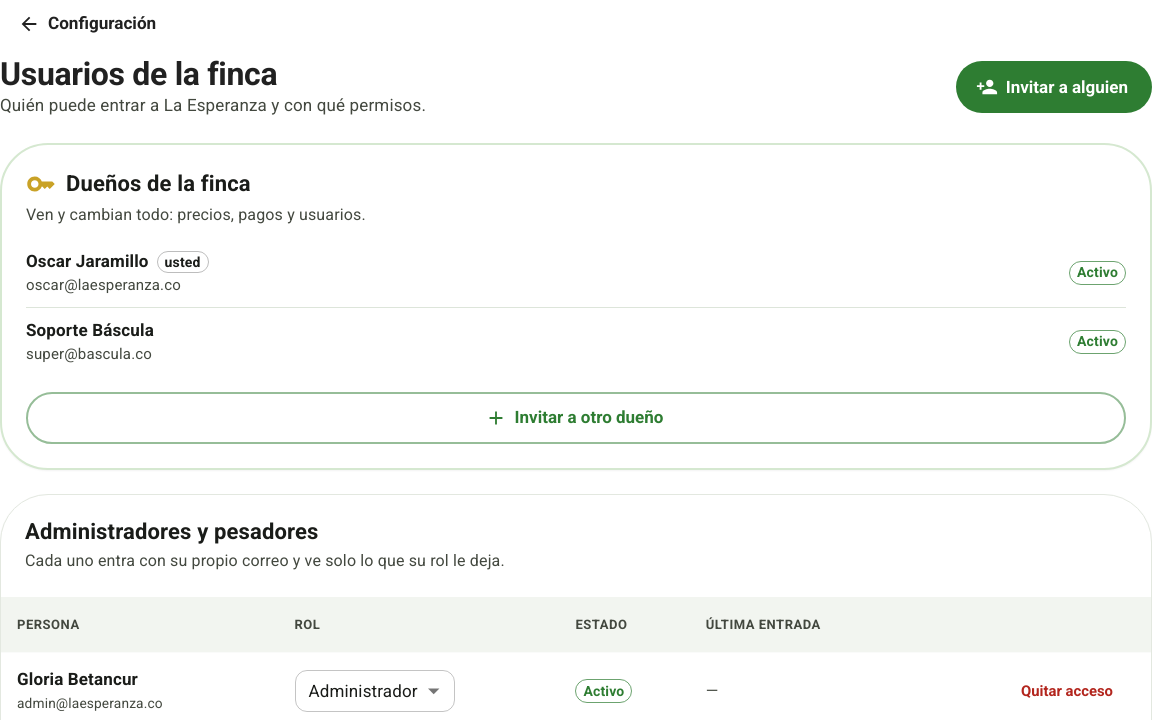
it: what the server sends back › speaks of 'ella' when the new person came back without a name
This screenshot has width=1152, height=720.
expect the text "Gloria Betancur" is shown: met, box [17,669,138,689]
Click the button "Invitar a alguien": click(1054, 87) [956,61,1151,113]
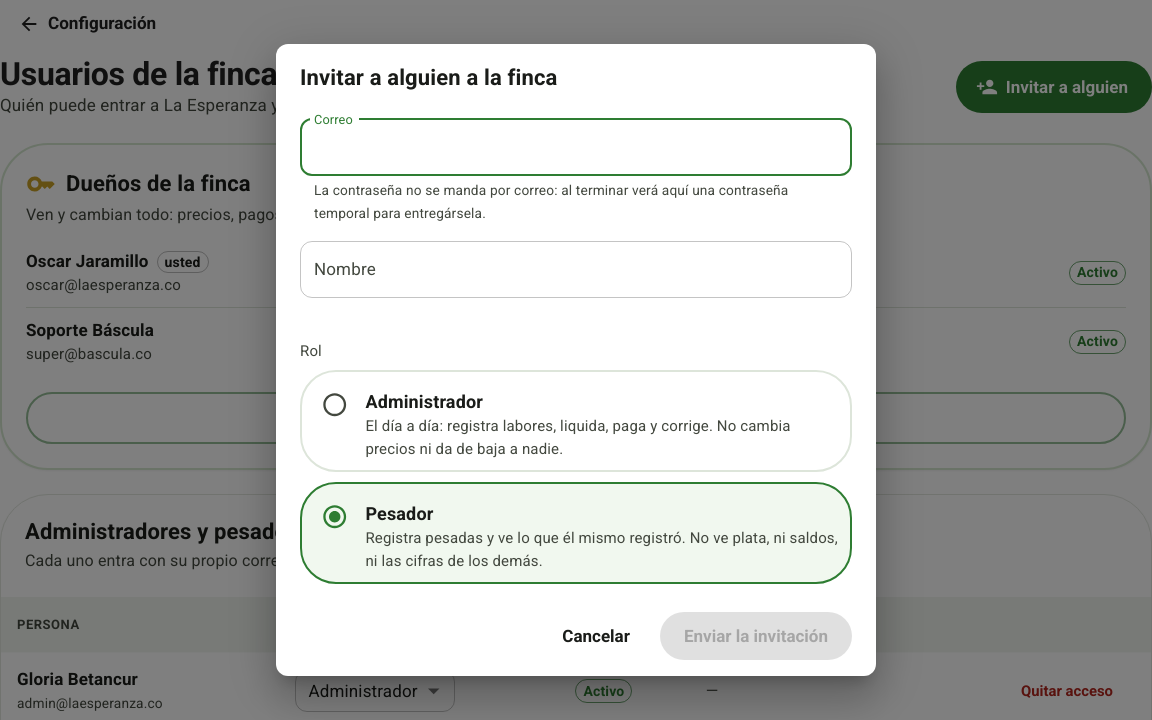
In the field labelled "Correo": (576, 148) [300,119,852,176], type "nueva@laesperanza.co"
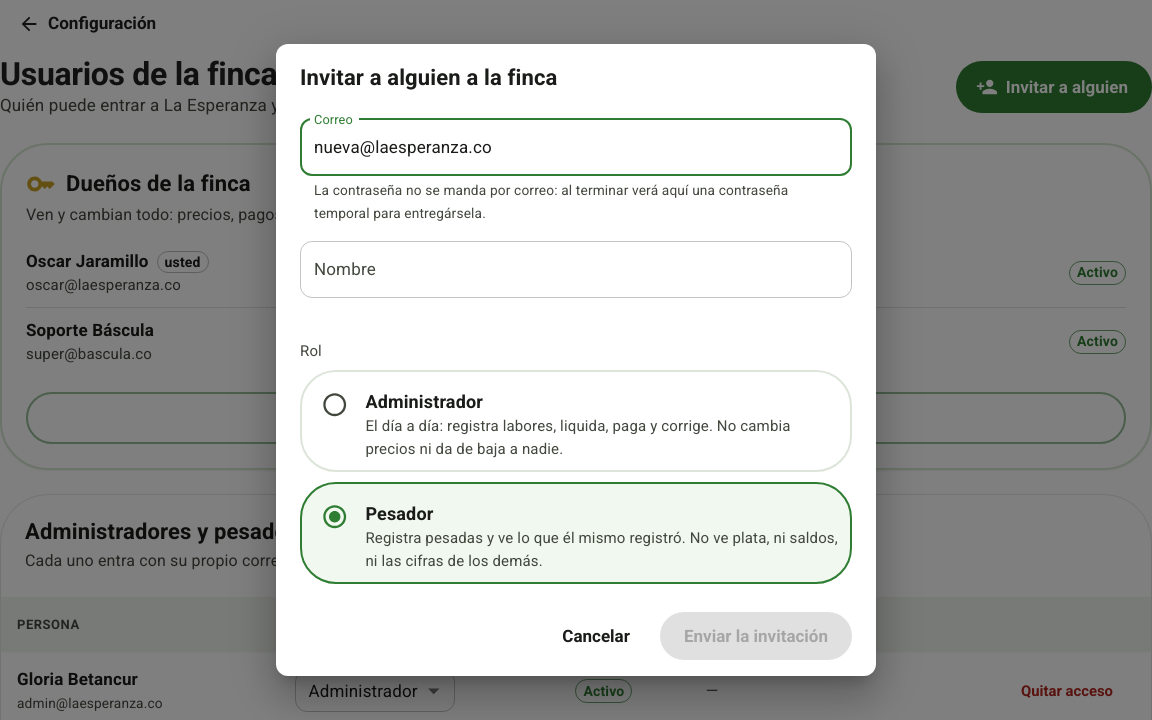
In the field labelled "Nombre": (576, 269) [300,241,852,298], type "Nueva"
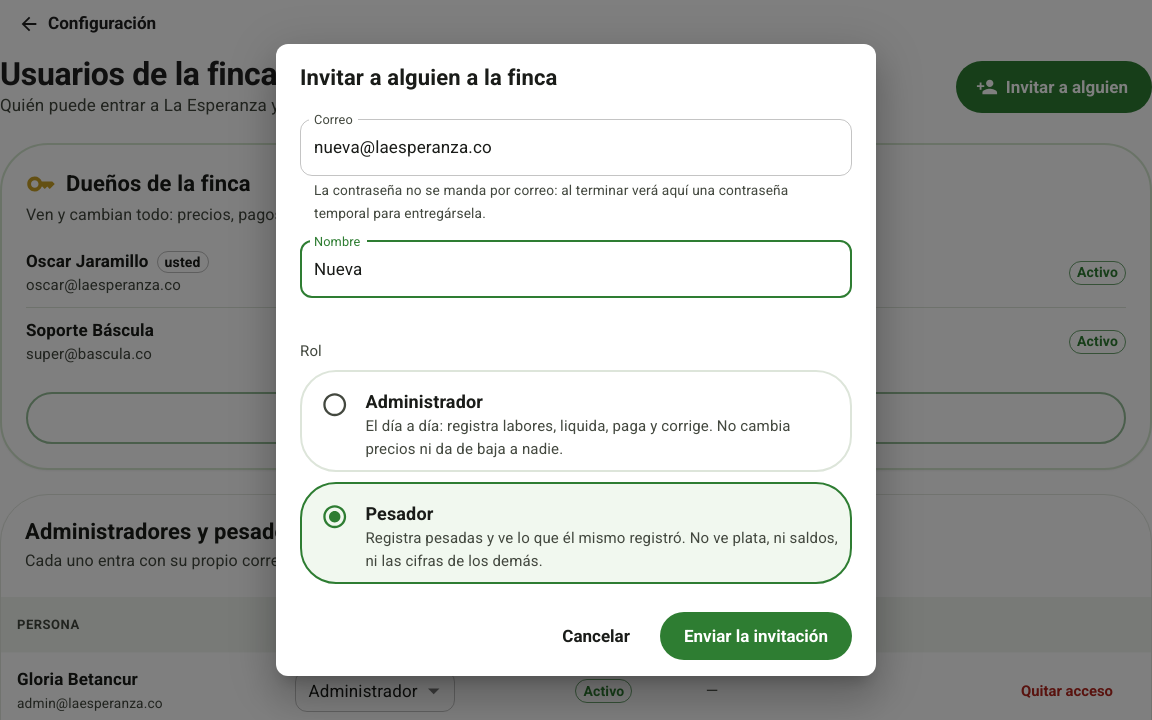
Click the button "Enviar la invitación": click(756, 636) [660,612,852,660]
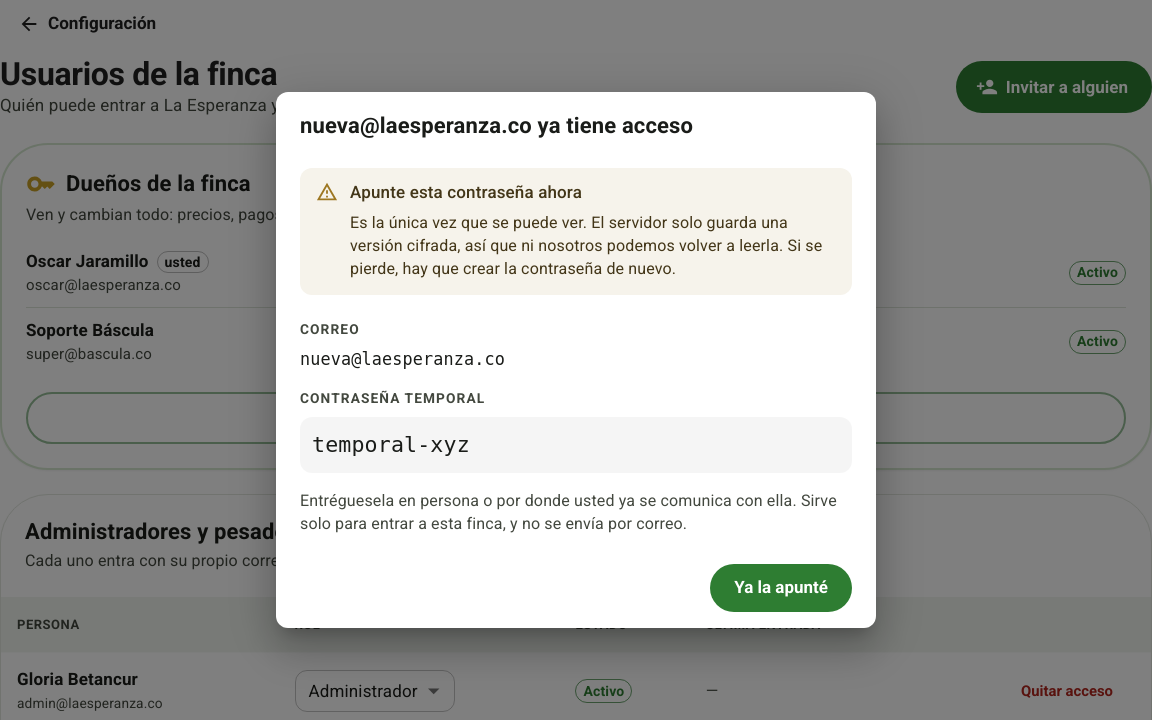
expect the text "temporal-xyz" is shown: met, box [300,417,852,473]
expect the text "se comunica con ella." is shown: met, box [300,489,852,536]
